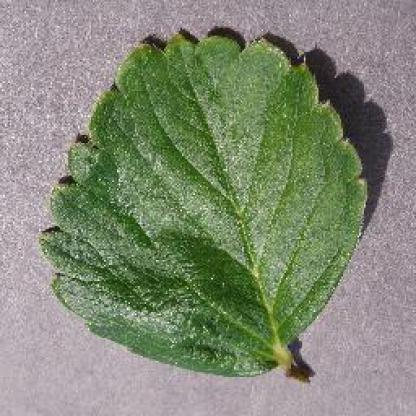healthy: (34, 25, 384, 393)
